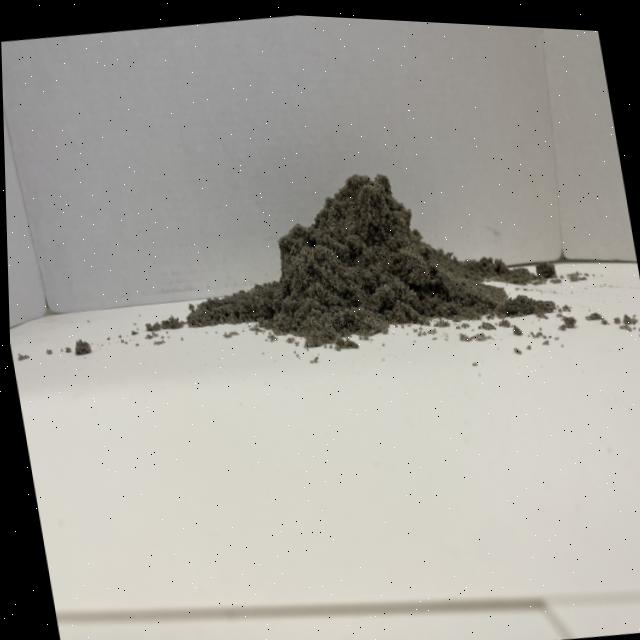sand: (154, 131, 527, 373)
